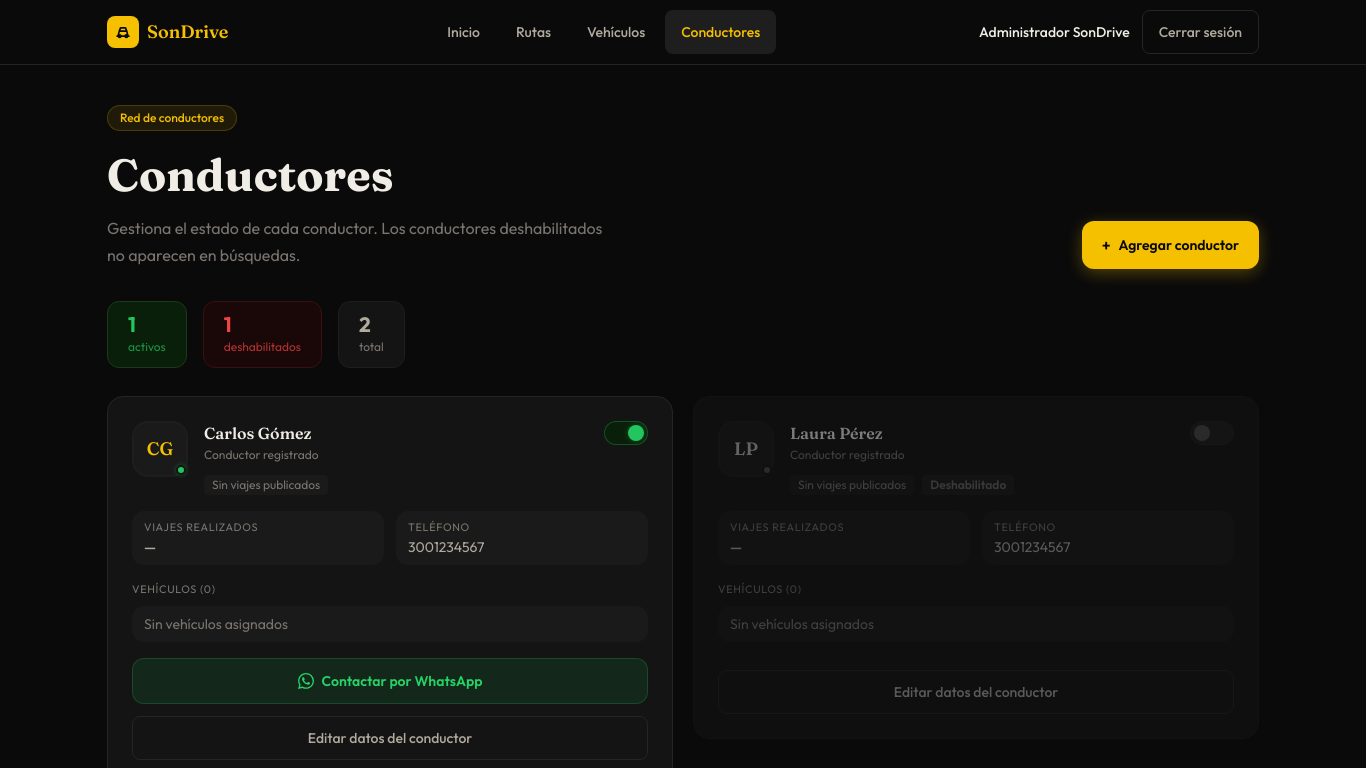
Scenario: PaginaConductores › edición de los datos del conductor › al pasar a otro conductor muestra sus datos y solo hay una edición abierta
Step 1. Click the button "Editar datos del conductor" below "Contactar por WhatsApp" → coordinates (390, 738), box [132, 716, 648, 760]
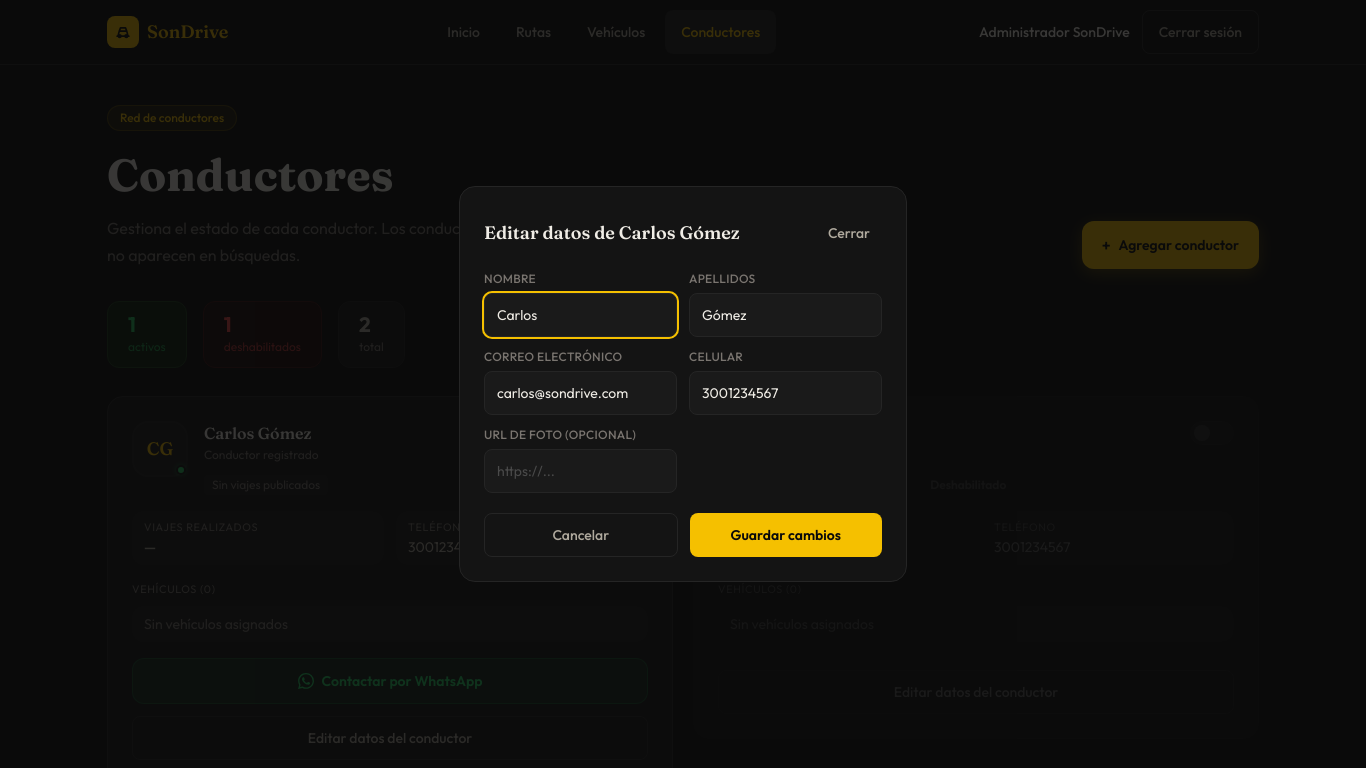
Step 2. Replace the text in the field labelled "Nombre" with "Otro" → coordinates (580, 315), box [484, 293, 677, 337]
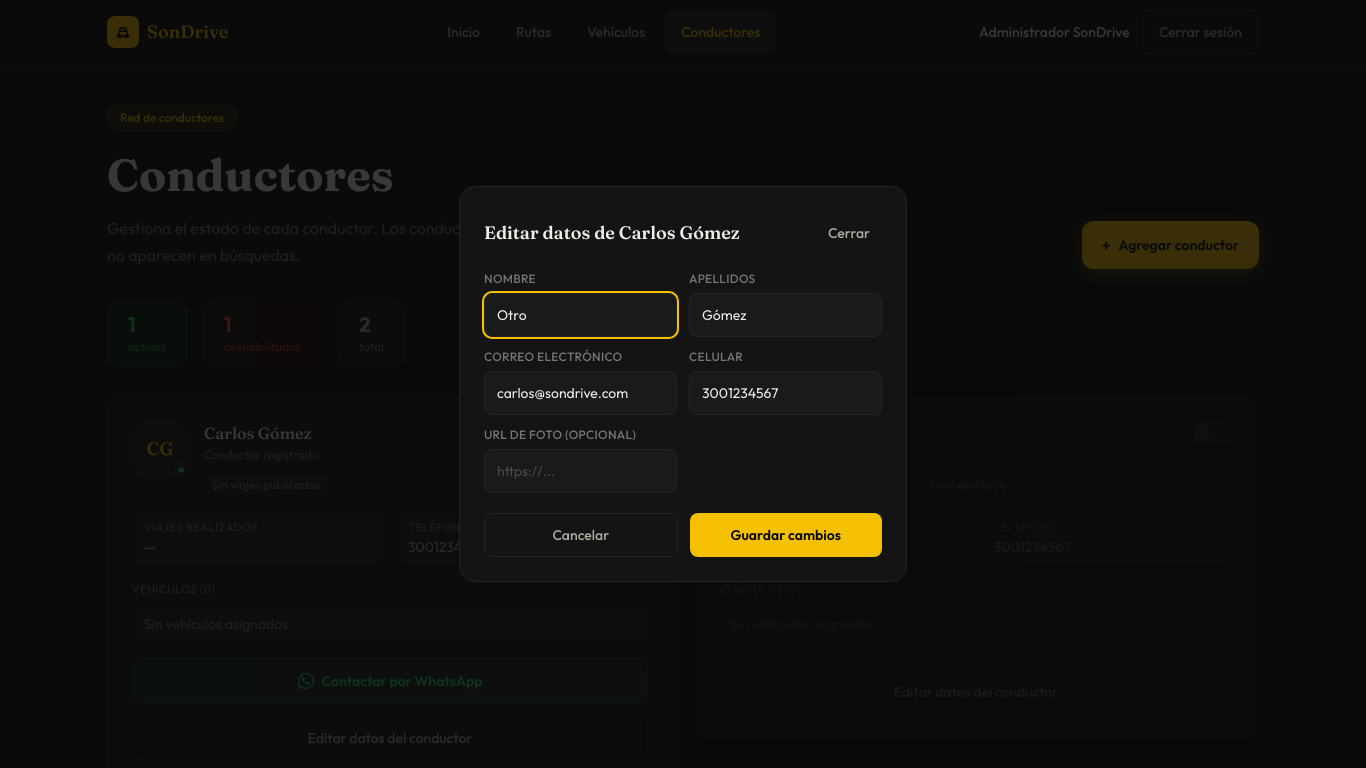
Step 3. Click the button "Cancelar" → coordinates (581, 535), box [484, 513, 678, 557]
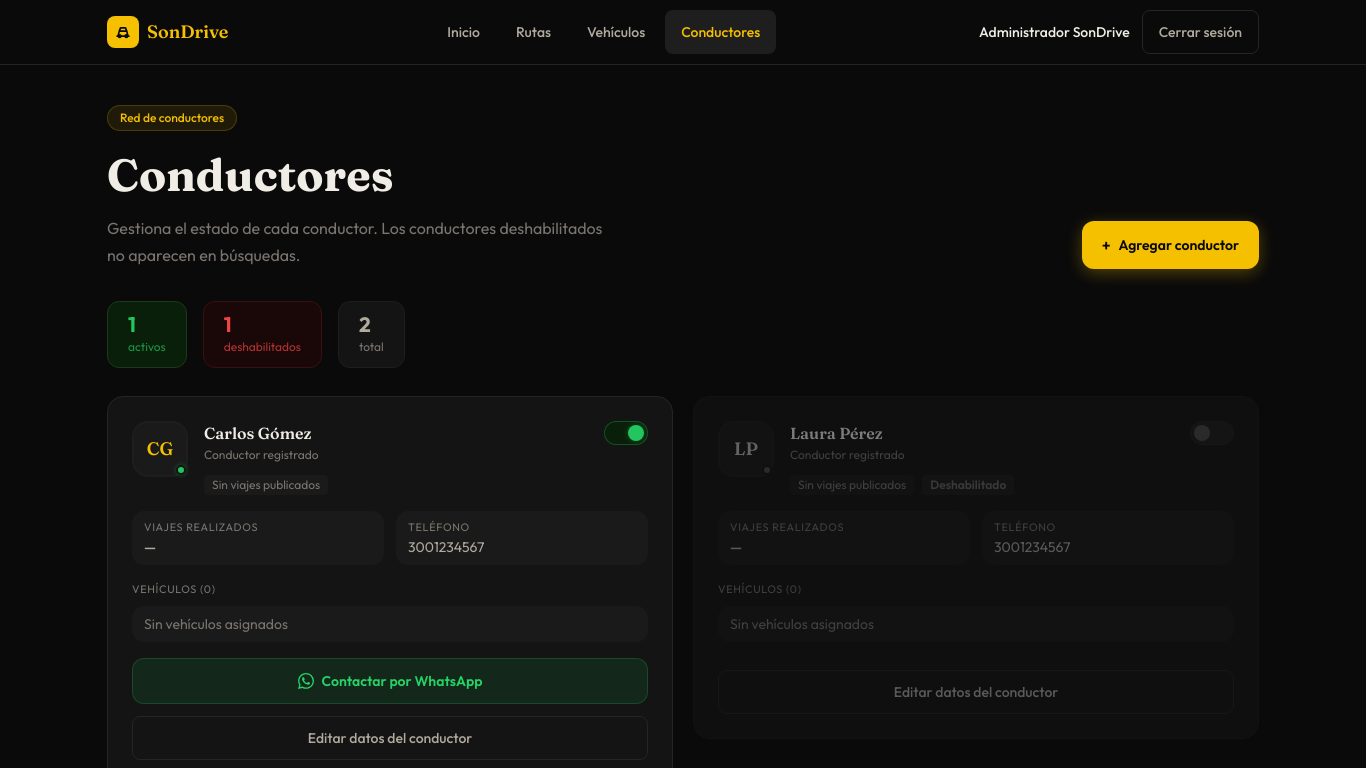
Step 4. Click the button "Editar datos del conductor" below "LP" → coordinates (976, 692), box [718, 670, 1234, 714]
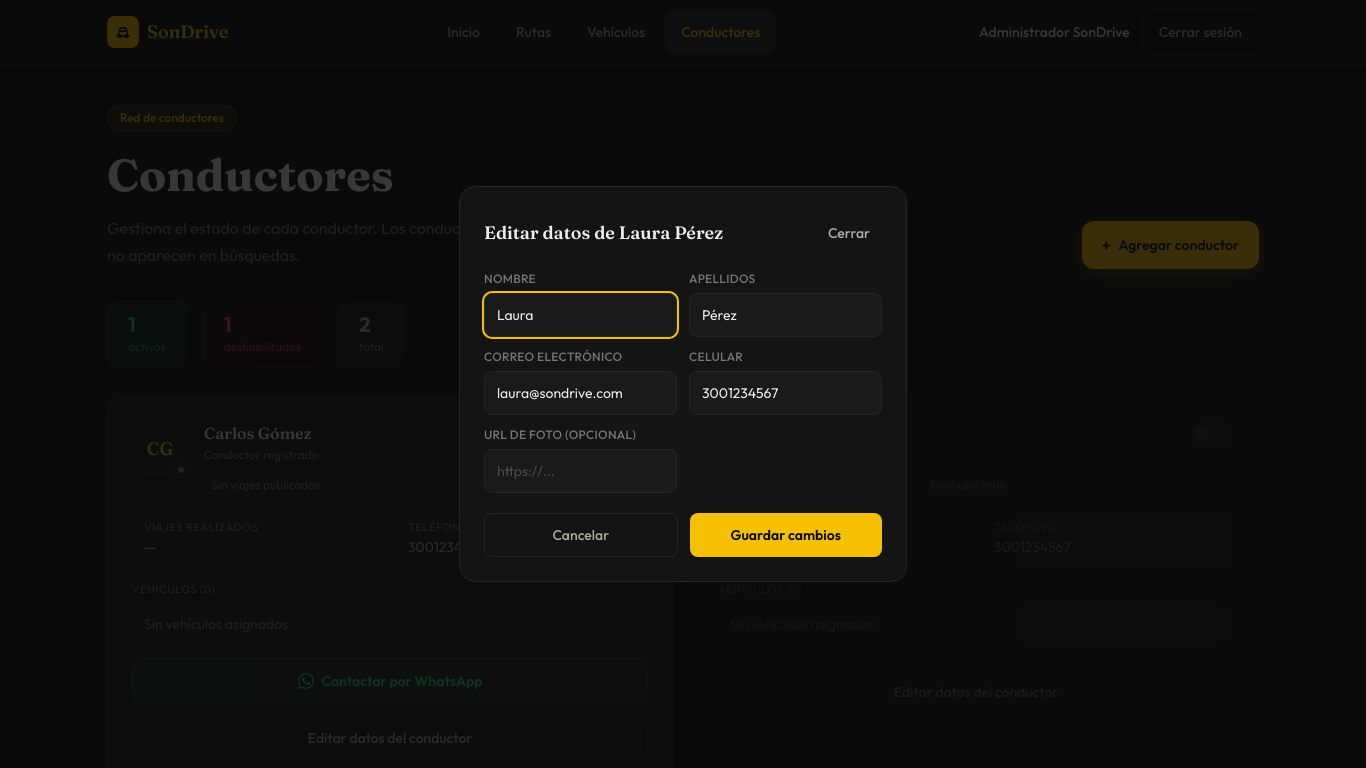
Result: the number of dialogs is 1 at [459, 186, 907, 582]
Result: the field labelled "Nombre" holds "Laura" at [484, 293, 677, 337]
Result: the field labelled "Correo electrónico" holds "laura@sondrive.com" at [484, 371, 677, 415]
